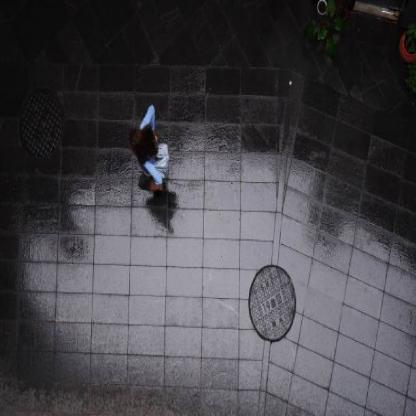manholes: (240, 238, 315, 361)
